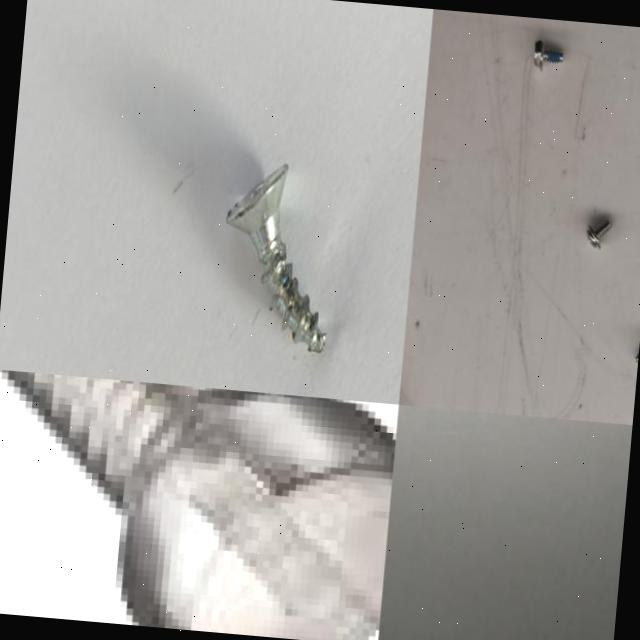Screw: (0, 369, 395, 640), (225, 164, 325, 354), (530, 33, 568, 75), (581, 211, 615, 255), (630, 334, 640, 370)
